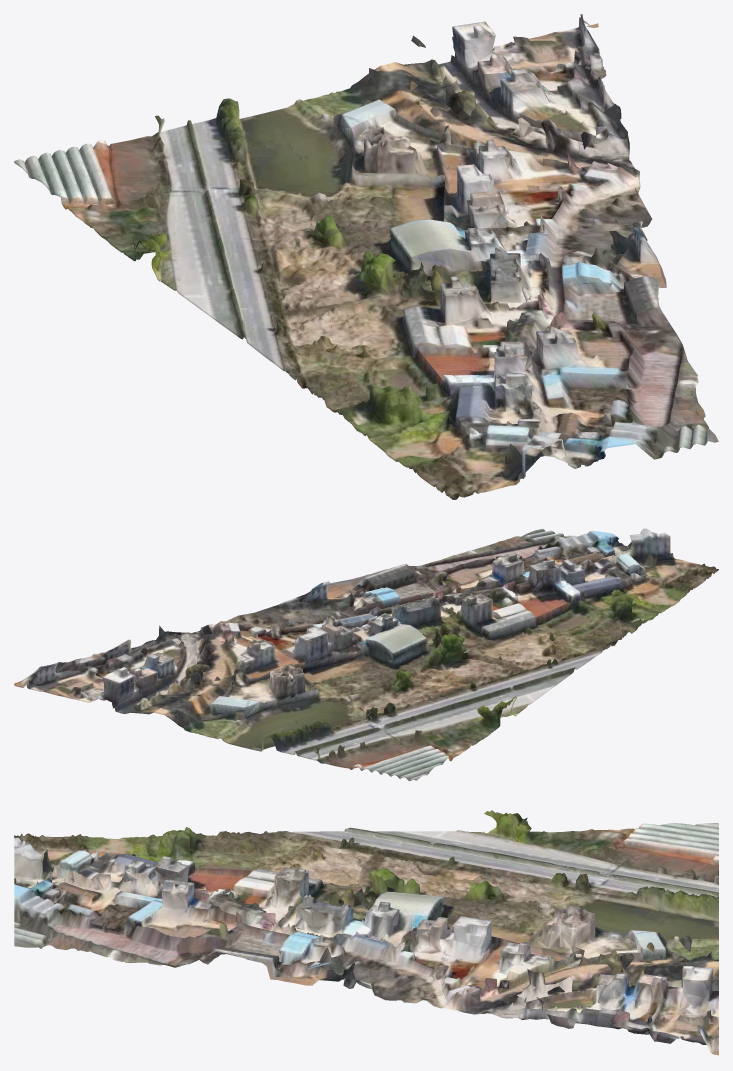
Rendered from BlockYB_L16_15.glb.
The picture shows the model from 3 angles, top to bottom: view 1: azimuth 30°, elevation 25°; view 2: azimuth 150°, elevation 25°; view 3: azimuth 270°, elevation 25°; orthographic projection. The views are drawn at different scales.
Visible parts, largest first — view 1: rtc; view 2: rtc; view 3: rtc.
Boxes of the visible parts, x1,y1,x2,y2 form: rtc: (14, 14, 718, 499); rtc: (14, 528, 718, 781); rtc: (14, 810, 718, 1055).
Bounding box in the file's own units: 242 × 28.73 × 314.
Materials: 7 (7 with a texture image).
